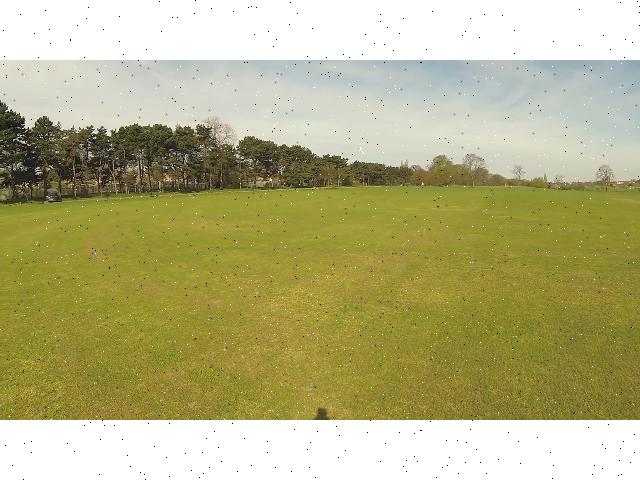Anti-Drone: (356, 142, 370, 157)
